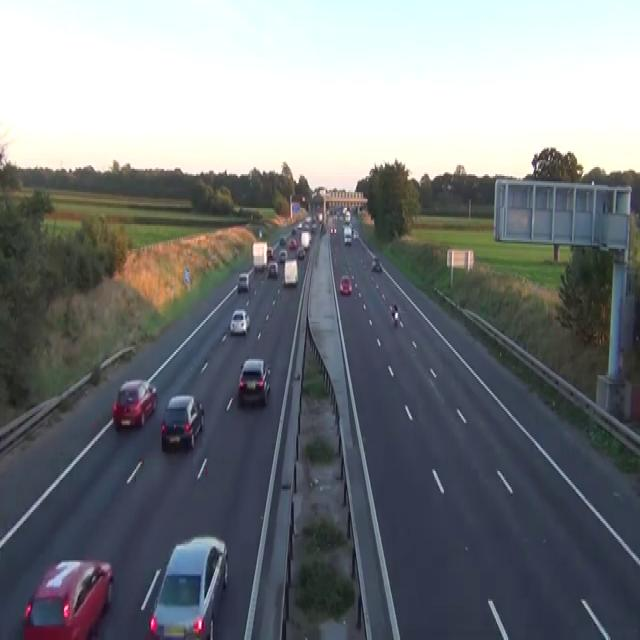Car: (148, 535, 228, 638), (22, 558, 113, 638), (161, 393, 204, 450), (112, 379, 157, 430), (238, 358, 271, 406), (229, 308, 250, 334), (339, 274, 352, 295), (302, 215, 317, 233), (237, 272, 249, 292), (389, 302, 399, 326), (267, 262, 278, 278), (371, 256, 381, 270), (278, 249, 287, 263), (296, 246, 305, 260), (288, 236, 297, 249), (266, 245, 273, 258), (319, 222, 325, 235), (329, 224, 336, 235), (311, 222, 317, 233), (394, 310, 398, 326), (352, 228, 358, 238), (279, 235, 285, 245), (302, 224, 310, 231), (291, 228, 297, 235), (297, 222, 302, 230), (258, 228, 262, 238)
Truck: (252, 242, 267, 272), (283, 260, 298, 286), (300, 229, 311, 249), (343, 224, 352, 245)
